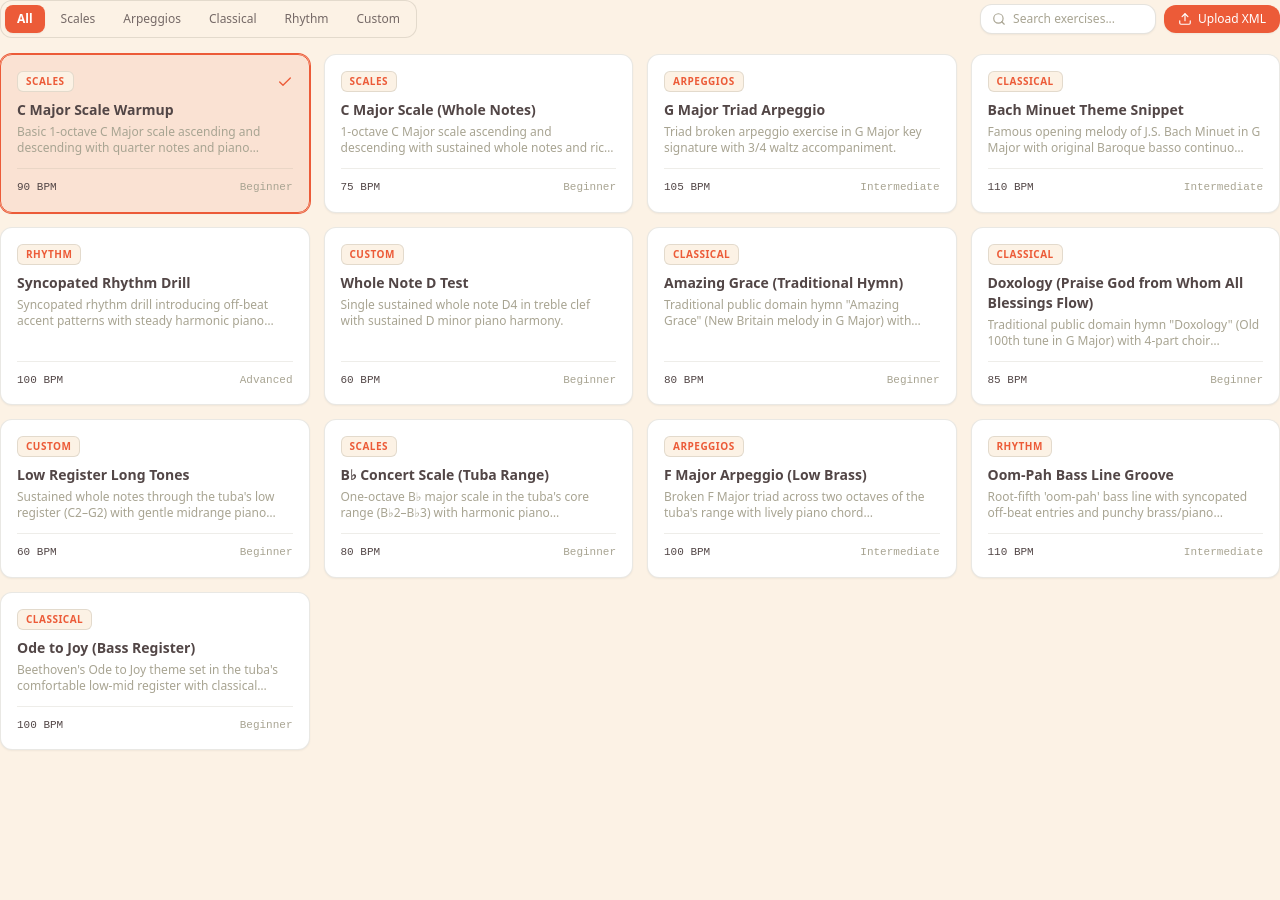
ExerciseSelector Component › opens upload modal when Upload XML button is clicked
The image size is (1280, 900).
Click the button "Upload XML" at x=1222, y=19, box top-left (1164, 5), bottom-right (1279, 33)
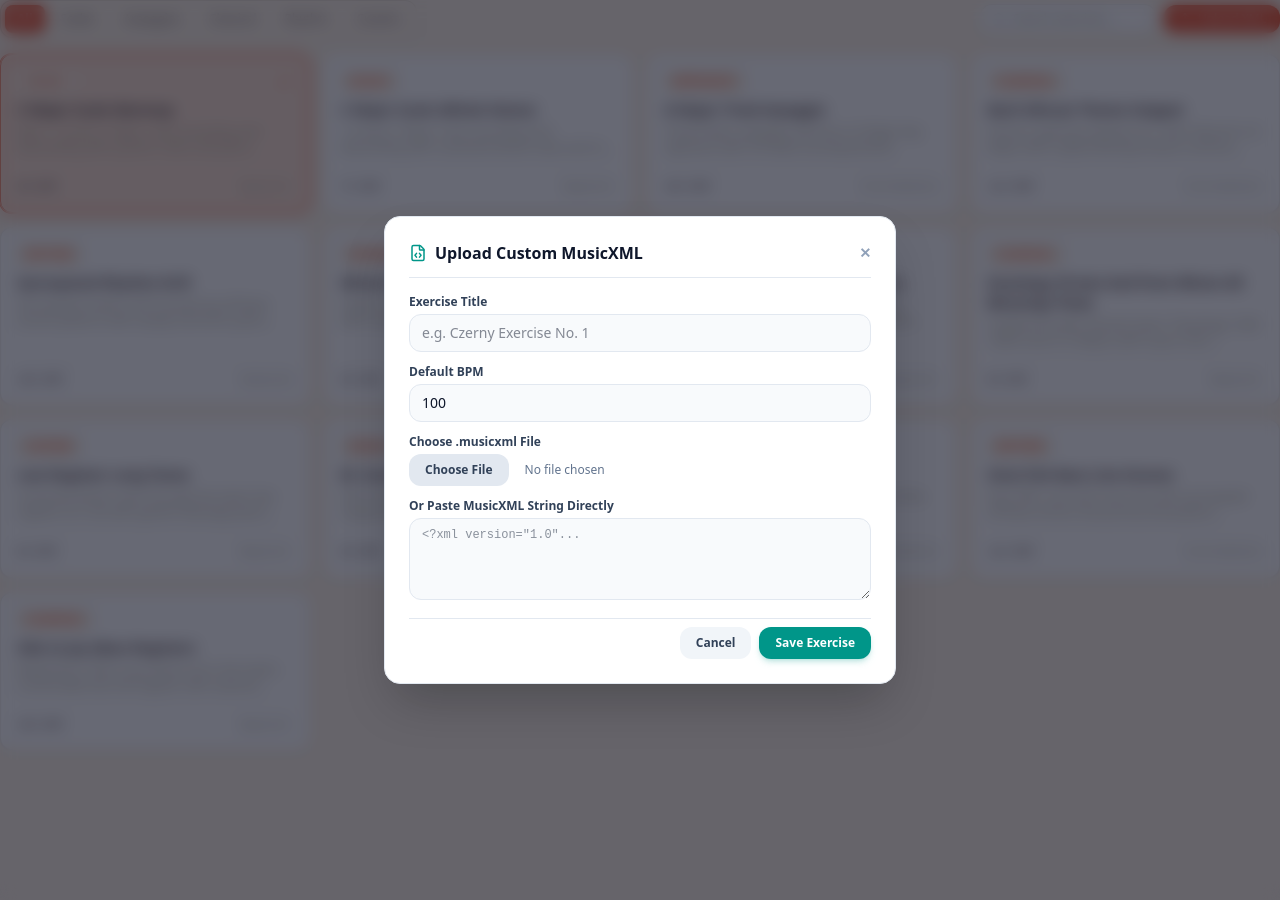
Expected: the heading "Upload Custom MusicXML" is shown, top-left (409, 241), bottom-right (643, 265)
Expected: the text "Exercise Title" is shown, top-left (409, 293), bottom-right (487, 310)
